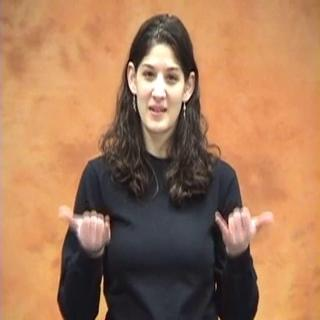now: (52, 203, 273, 261)
